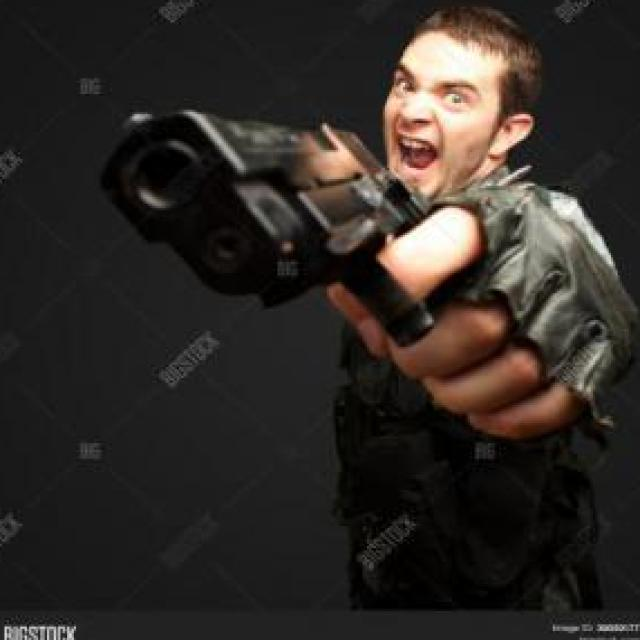pistol: (78, 105, 453, 346)
